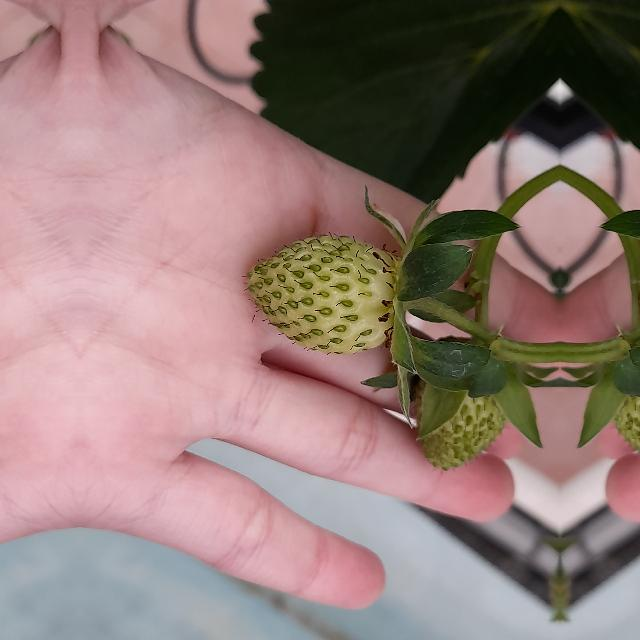Health_25: (246, 233, 394, 354), (412, 346, 510, 474), (610, 346, 640, 473)
